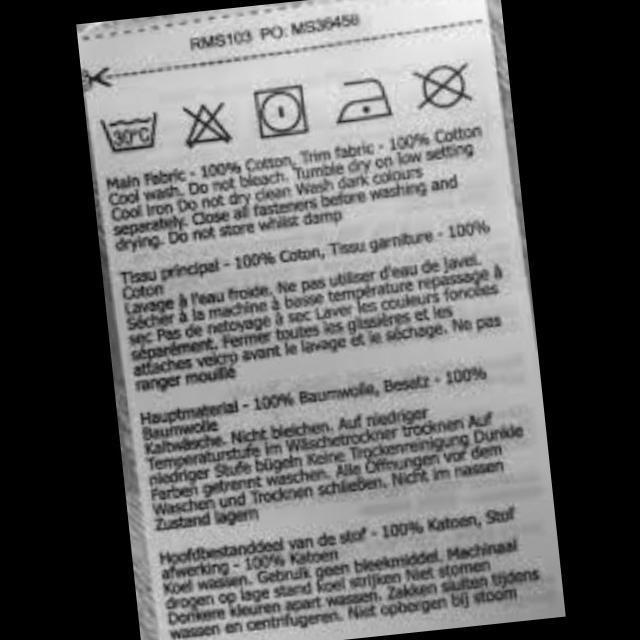30C: (94, 105, 168, 159)
DN_bleach: (177, 96, 235, 152)
DN_dry_clean: (408, 57, 476, 115)
iron_low: (327, 72, 399, 128)
tumble_dry_low: (248, 80, 312, 142)
